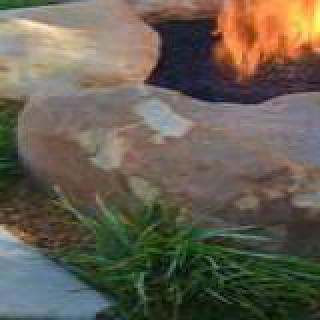fire: (204, 0, 320, 60)
